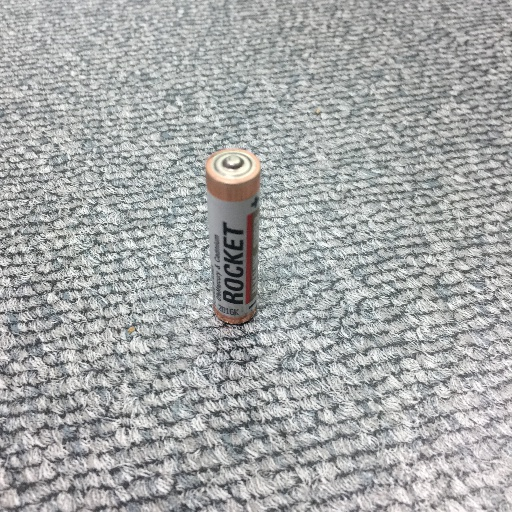Battery_0: (199, 143, 270, 333)
